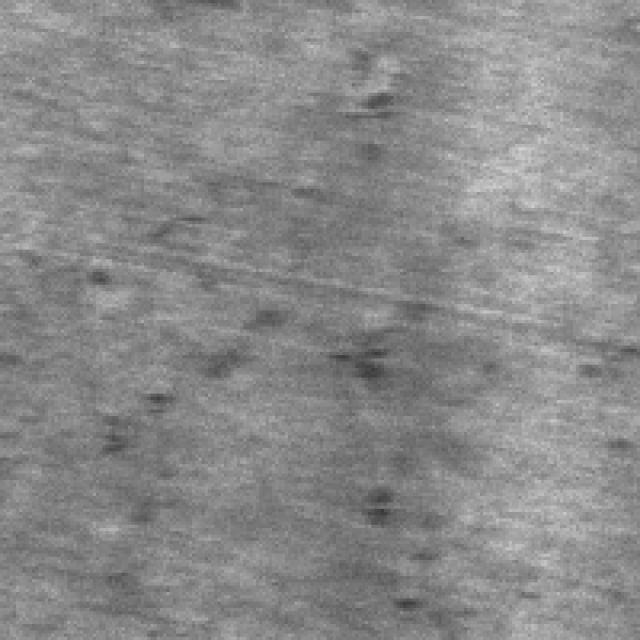rolled-in_scale: (80, 211, 317, 445), (342, 333, 487, 592), (288, 55, 429, 246)
